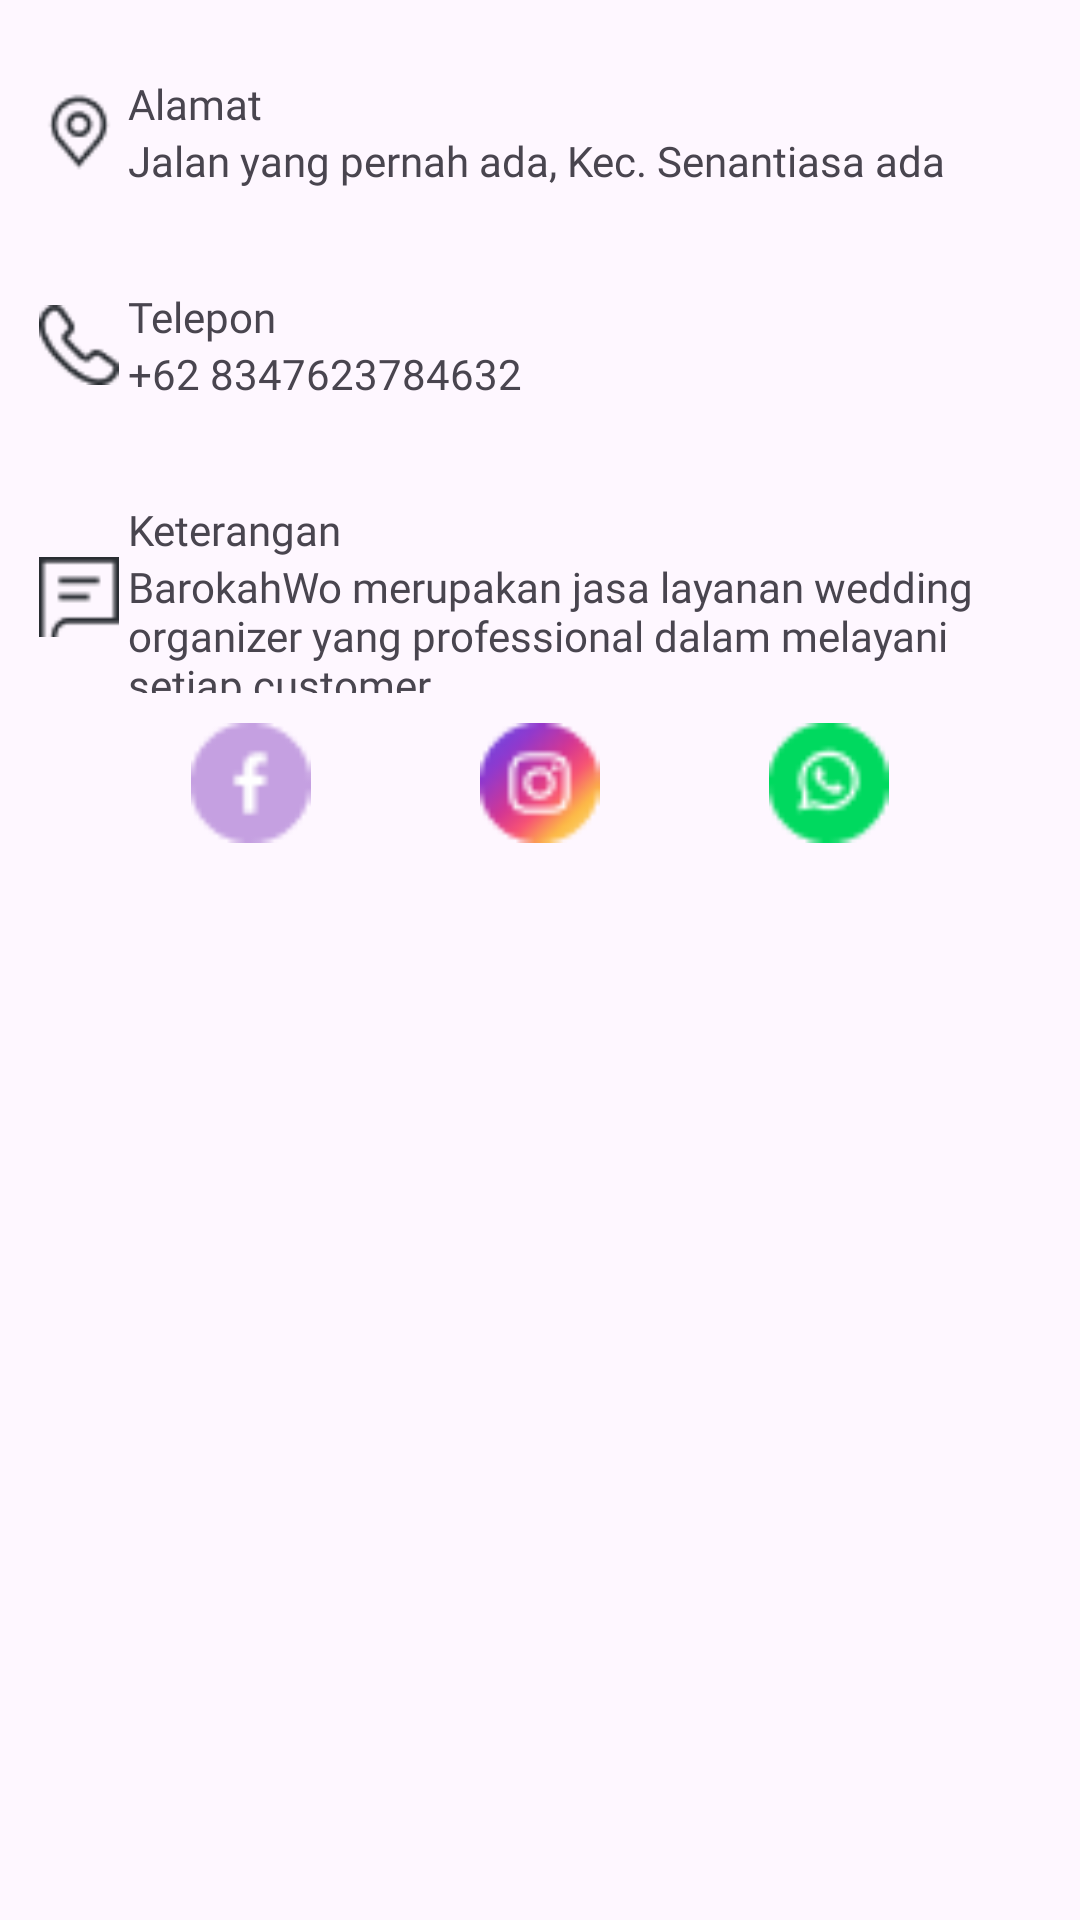

Named icons in this screenshot (1080px×1920px) and their bounding boxes, (left=x1, top=y1, right=x2, bottom=y2):
call: (left=39, top=305, right=119, bottom=385)
locate: (left=50, top=95, right=108, bottom=169)
